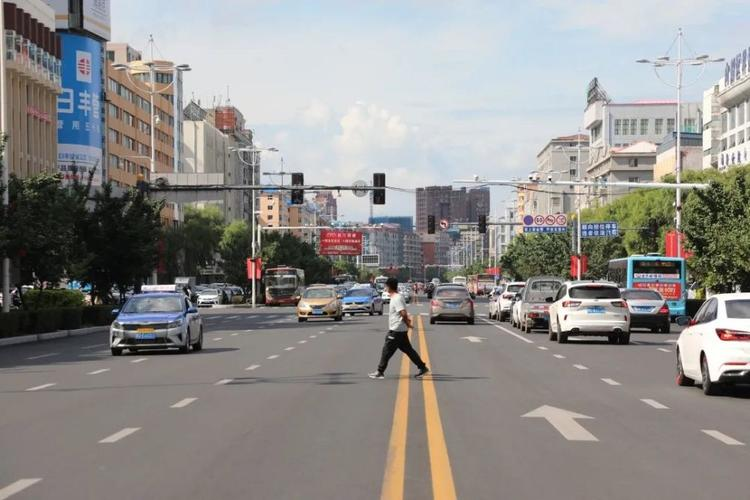bus: (605, 256, 688, 321), (263, 265, 305, 306)
camera: (547, 175, 553, 184), (527, 173, 533, 181), (473, 175, 478, 181)
car: (673, 292, 750, 397), (109, 292, 205, 355), (547, 281, 633, 345), (510, 276, 569, 333), (621, 288, 671, 333), (429, 285, 476, 325), (296, 286, 345, 322), (487, 283, 525, 322), (341, 288, 384, 316), (203, 283, 236, 304), (196, 288, 219, 306)
person: (368, 281, 430, 380), (10, 287, 22, 309)
sign: (521, 215, 566, 233), (580, 223, 619, 236), (440, 219, 448, 230)
traffic light: (372, 172, 386, 205), (291, 189, 304, 205), (478, 215, 487, 235), (427, 215, 436, 234), (291, 173, 304, 186)
